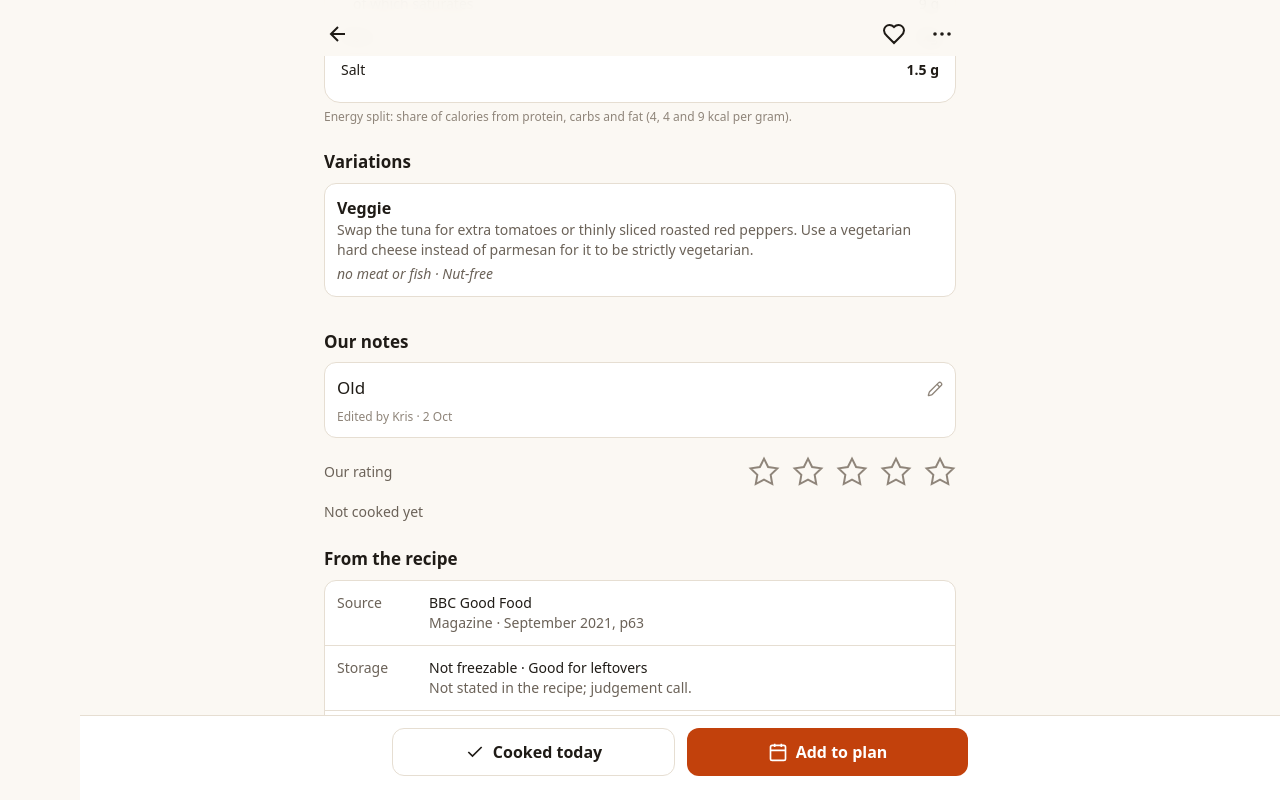
Scenario: the recipe page › the household's parts (PP-169) › keeps the note open when it can't be saved
(page scrolled)
Step 1. Click the button with aria-label "Edit our notes" → (395, 416), box [324,362,956,438]
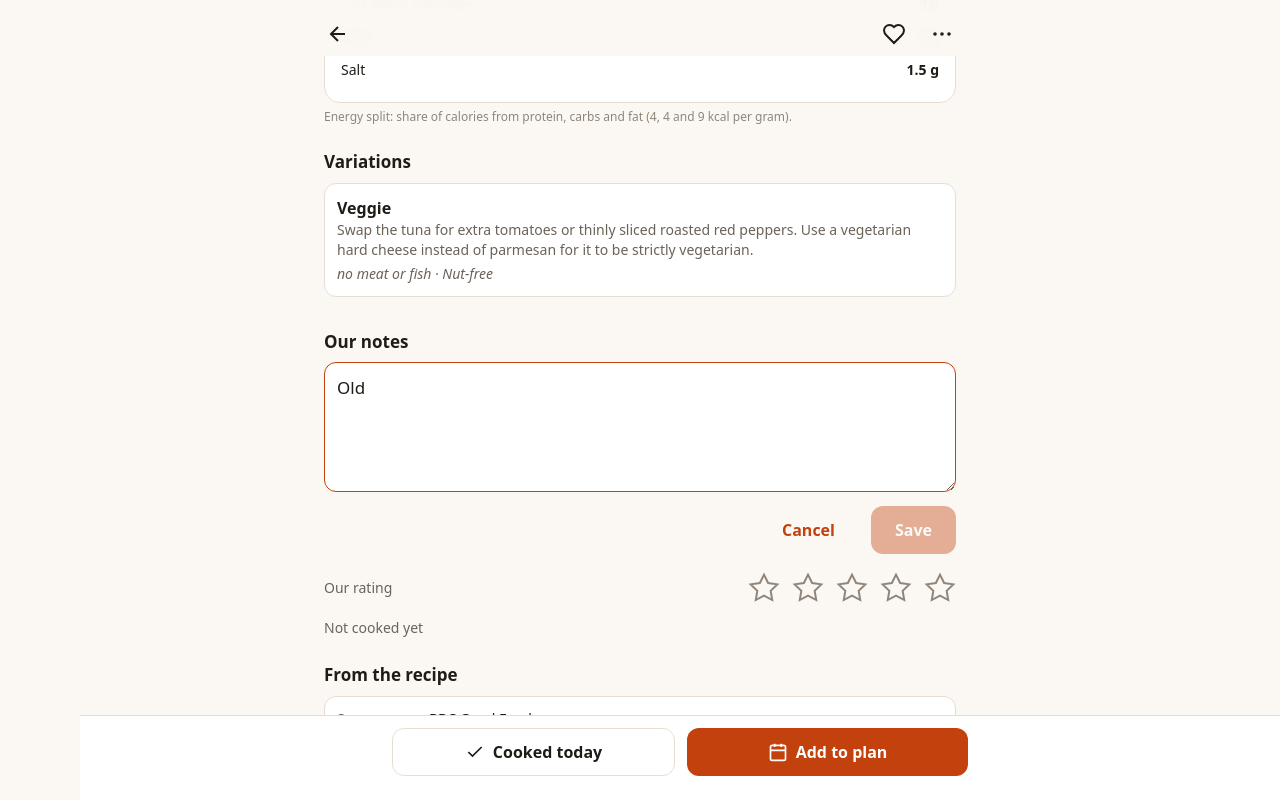
Step 2. Replace the text in the text box named "Our notes" with "New" → (640, 427), box [324,362,956,492]
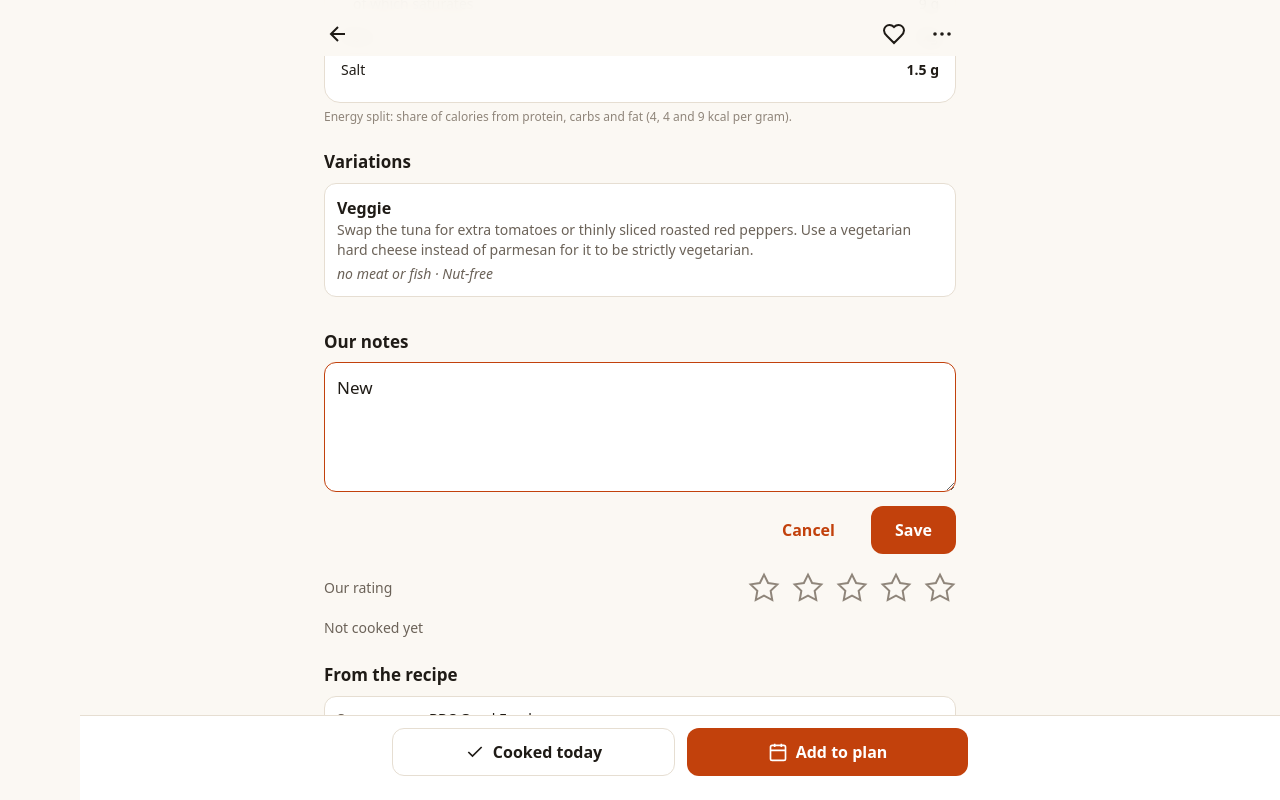
Step 3. Click the button "Save" → (914, 530), box [871,506,956,554]
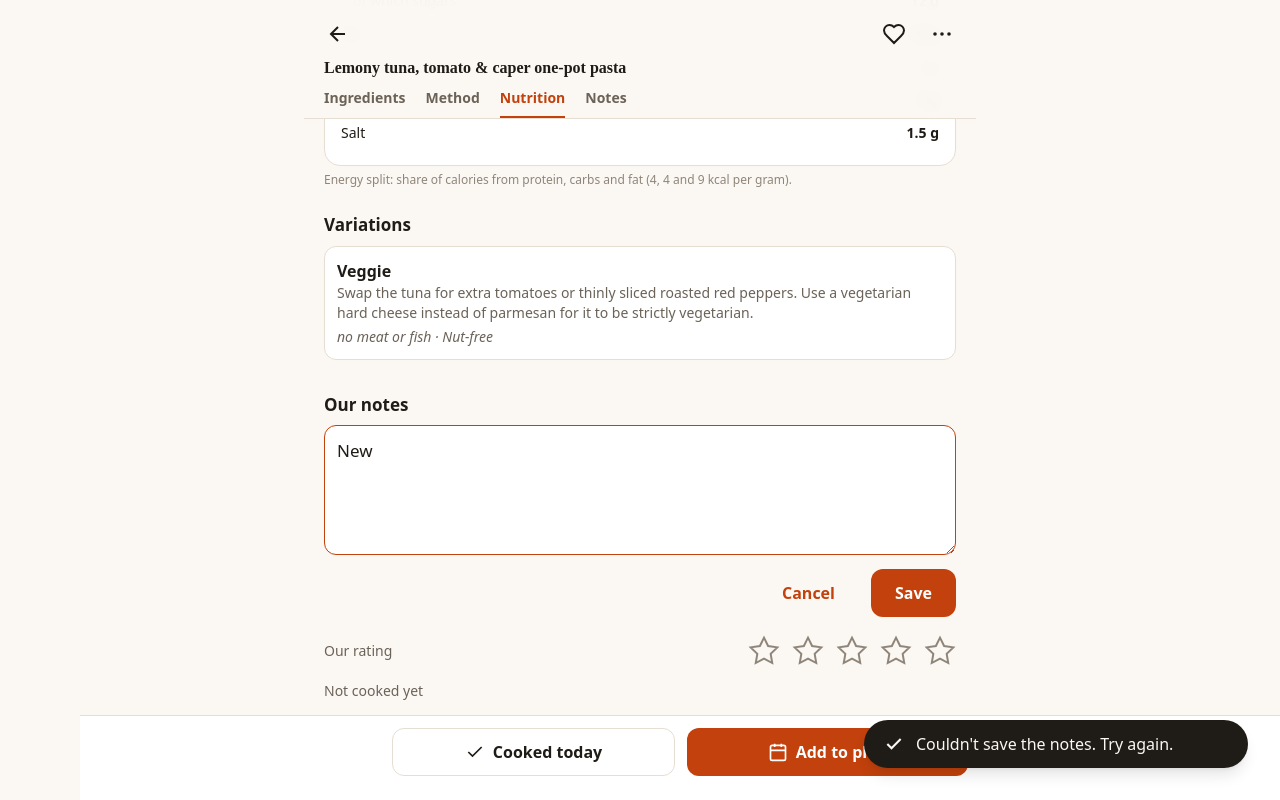
Expected: the message reads "Couldn't save the notes. Try again.", [916,733,1173,755]
